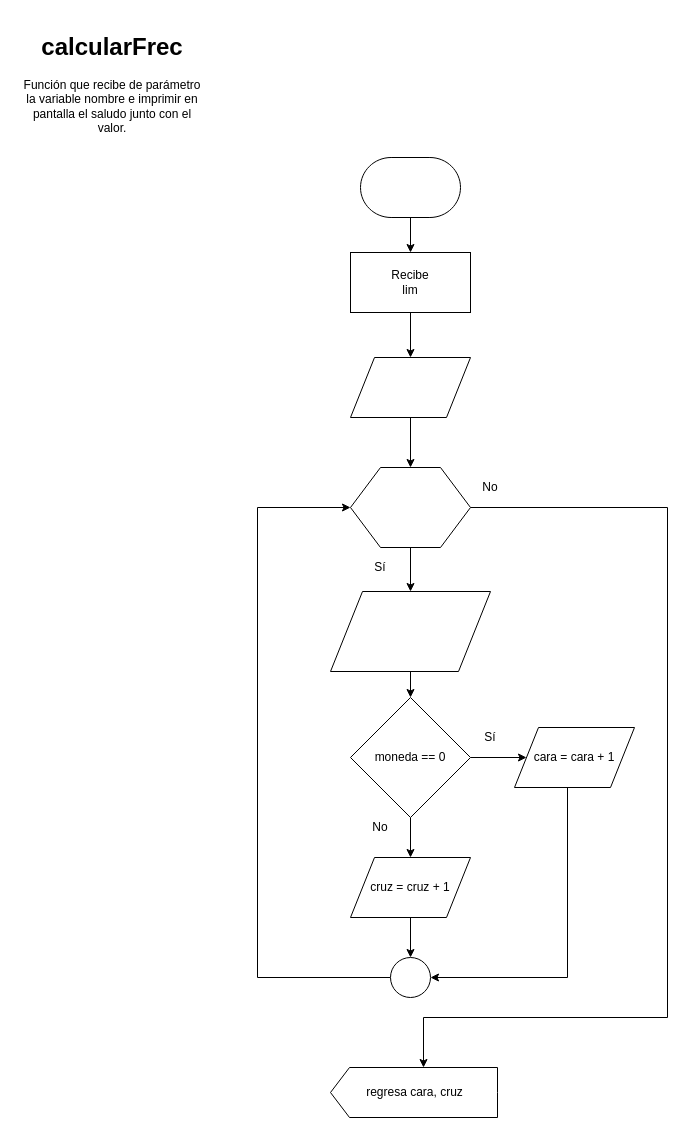
This 693x1135 diagram has some shape labels left out. Each missing label, with the centre of its shape:
cara = 0 cruz = 0: pixel 410 387
i in range(1, lim, 1): pixel 410 507
moneda = random.ranint(0, 1): pixel 410 631
